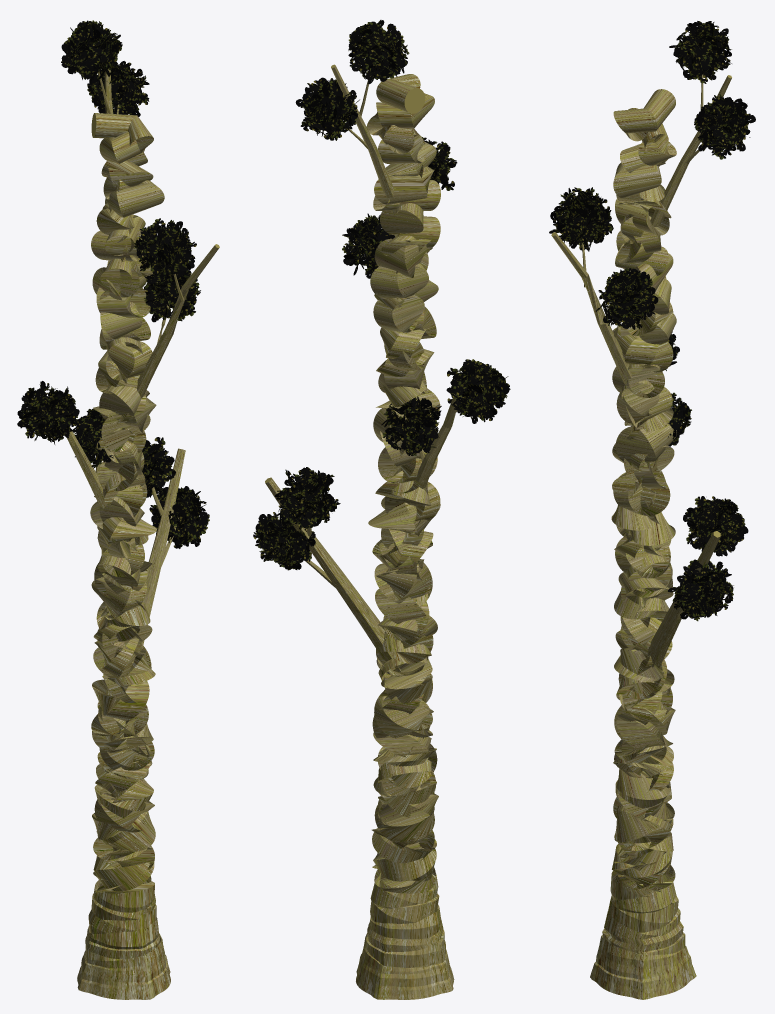
File: deadwood_snag_v02.fbx
The picture shows the model from 3 angles, left to right: view 1: azimuth 30°, elevation 25°; view 2: azimuth 150°, elevation 25°; view 3: azimuth 270°, elevation 25°; orthographic projection. The views are drawn at different scales.
Parts seen in each view (by area): view 1: deadwood_snag_v02; view 2: deadwood_snag_v02; view 3: deadwood_snag_v02.
Boxes of the visible parts, x1=… form: deadwood_snag_v02: x1=17, y1=20, x2=219, y2=999; deadwood_snag_v02: x1=253, y1=20, x2=510, y2=999; deadwood_snag_v02: x1=549, y1=21, x2=755, y2=999.
Bounding box in the file's own units: 483 × 407 × 1997.
2 materials, 2 textured.
